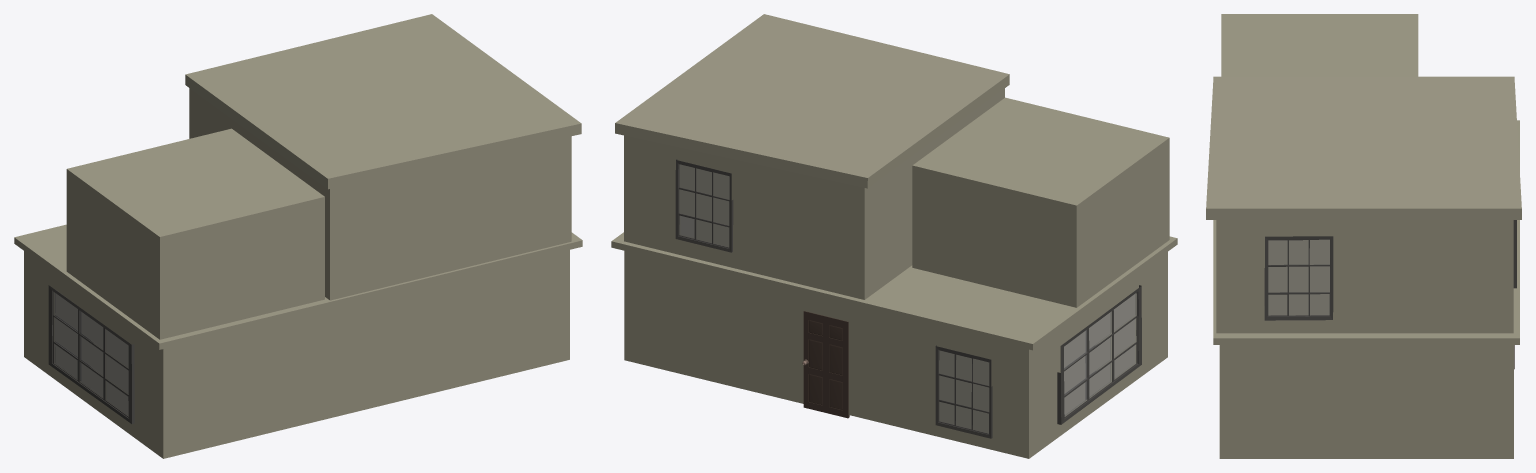
The model's file is harong2-re.fbx.
The picture shows the model from 3 angles, left to right: view 1: azimuth 30°, elevation 25°; view 2: azimuth 150°, elevation 25°; view 3: azimuth 270°, elevation 25°; orthographic projection. The views are drawn at different scales.
Parts seen in each view (by area): view 1: pCube31; view 2: pCube31; view 3: pCube31.
Boxes of the visible parts, x1,y1,x2,y2 form: pCube31: (14, 14, 582, 458); pCube31: (611, 14, 1177, 458); pCube31: (1206, 14, 1521, 458).
Size of the model in its own units: 21.43 by 11.9 by 13.12.
